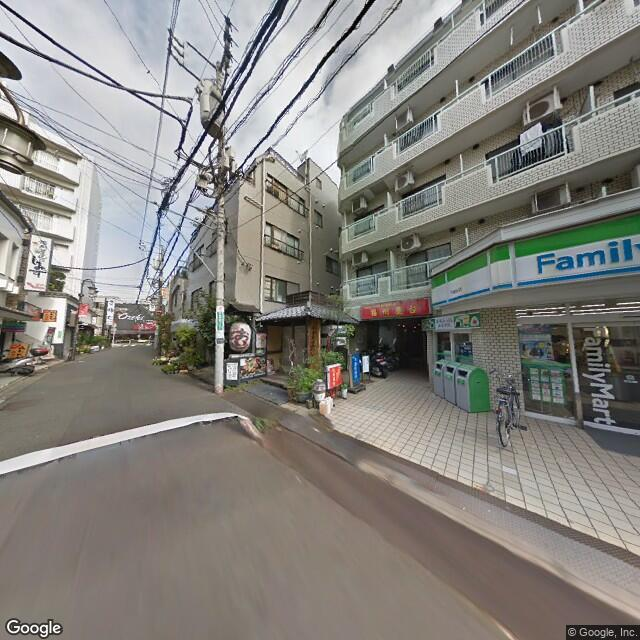family_mart: (430, 209, 638, 307)
